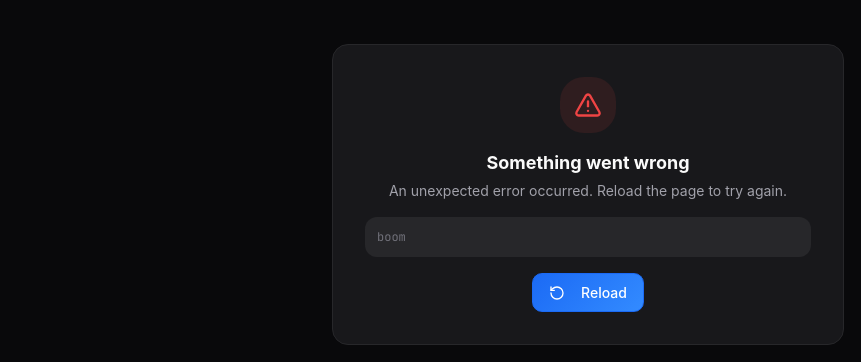
ErrorBoundary › re-renders children after Reload is clicked
This screenshot has width=861, height=362.
Expected: the heading "Something went wrong" is shown, 486,152 -> 690,173
Click the button "Reload". click: (588, 292)
box: 532,273 -> 644,312
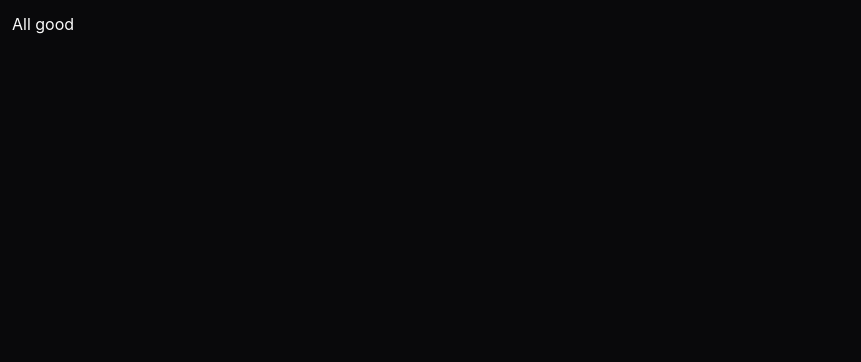
Result: the text "All good" is shown at 12,14 -> 74,34
